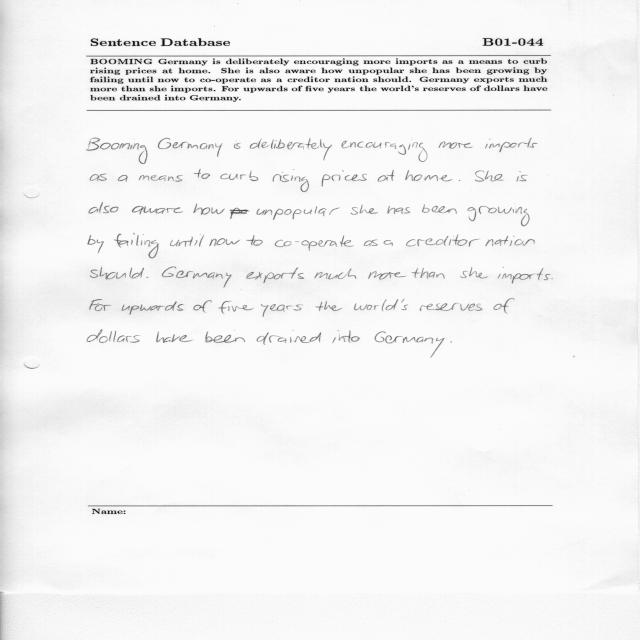word: (342, 139, 428, 162), (375, 331, 445, 358), (250, 138, 332, 161), (87, 138, 148, 164), (162, 267, 232, 288), (275, 235, 354, 251), (468, 206, 530, 226), (158, 138, 223, 157), (256, 206, 340, 220), (114, 233, 159, 258), (257, 330, 321, 345), (406, 234, 479, 247), (247, 268, 305, 284), (122, 301, 183, 315), (498, 267, 550, 283), (322, 170, 367, 187), (485, 138, 538, 152), (273, 172, 309, 192), (90, 267, 144, 280), (87, 330, 140, 343), (354, 299, 408, 311), (261, 304, 303, 317), (406, 171, 453, 182), (315, 268, 357, 280), (485, 236, 535, 246), (420, 303, 482, 311), (132, 206, 183, 215), (219, 301, 254, 314), (170, 234, 204, 247), (206, 332, 246, 343), (220, 170, 258, 181), (156, 332, 193, 343), (194, 203, 225, 215), (332, 330, 360, 343), (412, 268, 445, 279), (368, 271, 407, 280), (422, 204, 457, 214), (460, 267, 488, 279), (89, 203, 119, 214), (475, 171, 504, 182), (494, 299, 515, 314), (139, 175, 183, 182), (88, 235, 104, 254), (439, 141, 473, 149), (351, 205, 378, 215), (315, 301, 342, 311), (90, 299, 111, 311), (210, 238, 241, 246), (193, 300, 212, 313), (230, 208, 249, 219), (378, 170, 395, 182), (246, 235, 263, 246), (388, 206, 411, 214), (194, 169, 210, 179), (517, 171, 528, 182), (90, 174, 107, 181), (364, 240, 378, 247), (118, 175, 128, 182), (234, 140, 241, 149), (383, 240, 393, 246), (459, 180, 461, 181), (147, 277, 149, 278), (551, 279, 553, 280), (450, 342, 452, 343)
